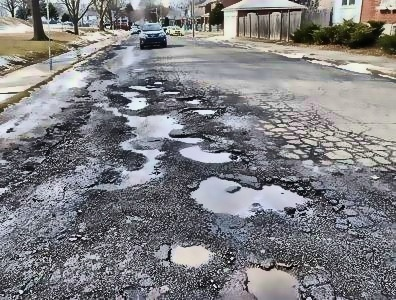pothole: (187, 173, 314, 217), (239, 260, 304, 299), (177, 143, 243, 162), (167, 241, 213, 265), (187, 105, 222, 115), (170, 133, 204, 141), (181, 94, 205, 104), (160, 88, 181, 94)
